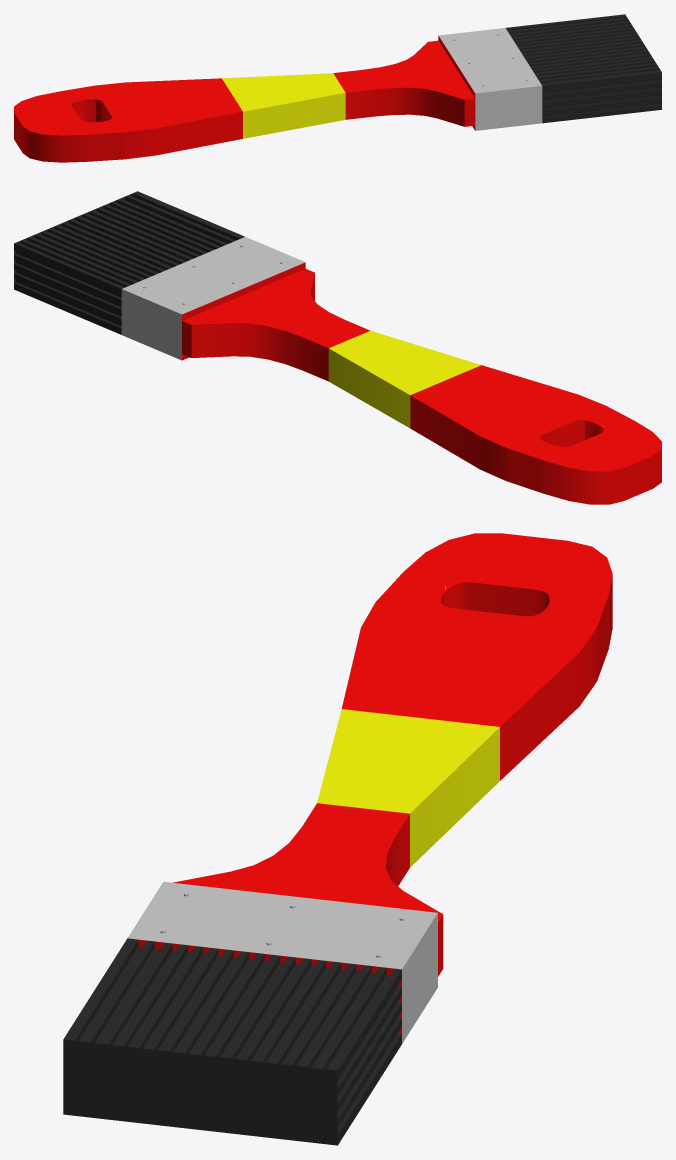
3 views of the same model, one above another, from view 1: azimuth 30°, elevation 25°; view 2: azimuth 150°, elevation 25°; view 3: azimuth 270°, elevation 25° (orthographic). The views are drawn at different scales.
Parts seen in each view (by area): view 1: Box002; view 2: Box002; view 3: Box002.
Boxes of the visible parts, x1=… form: Box002: x1=14, y1=14, x2=661, y2=162; Box002: x1=14, y1=191, x2=661, y2=504; Box002: x1=63, y1=533, x2=612, y2=1145.
Bounding box in the file's own units: 146895 × 9717 × 62279.
